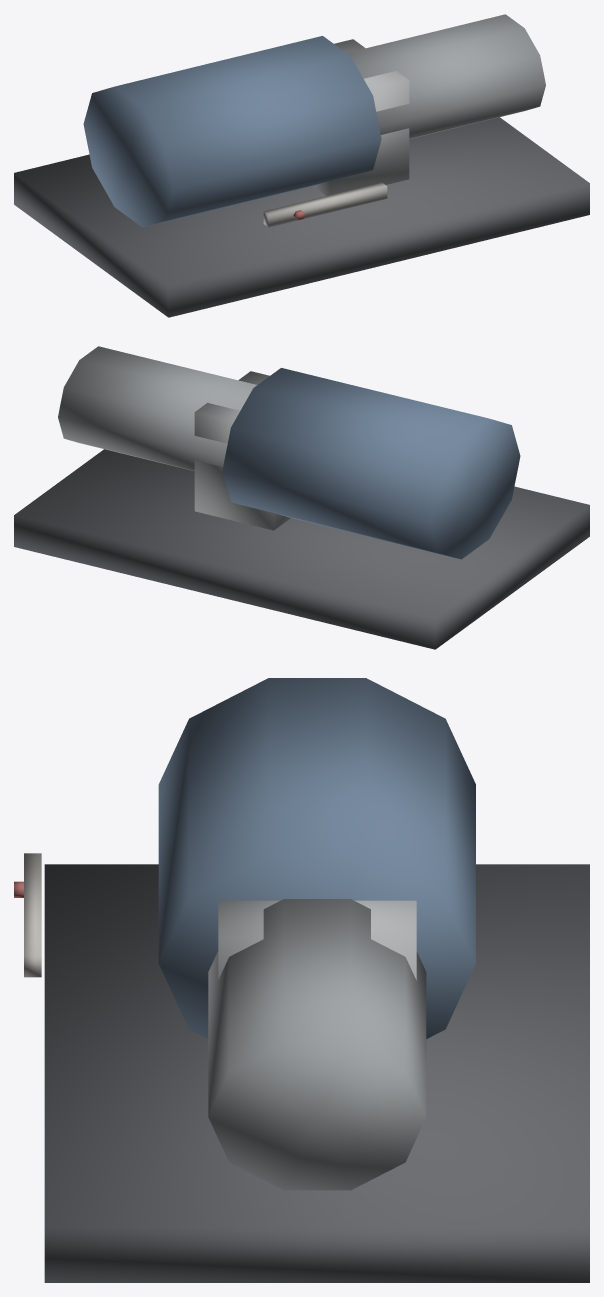
File: pump_skid__squat.glb
3 renders of one model, top to bottom at view 1: azimuth 30°, elevation 25°; view 2: azimuth 150°, elevation 25°; view 3: azimuth 270°, elevation 25°, orthographic. The views are drawn at different scales.
Parts seen in each view (by area): view 1: world; view 2: world; view 3: world.
Boxes of the visible parts, x1,y1,x2,y2 form: world: (14,14,589,317); world: (14,346,589,649); world: (14,678,589,1282).
Bounding box in the file's own units: 0.9405 × 0.3294 × 0.6275.
